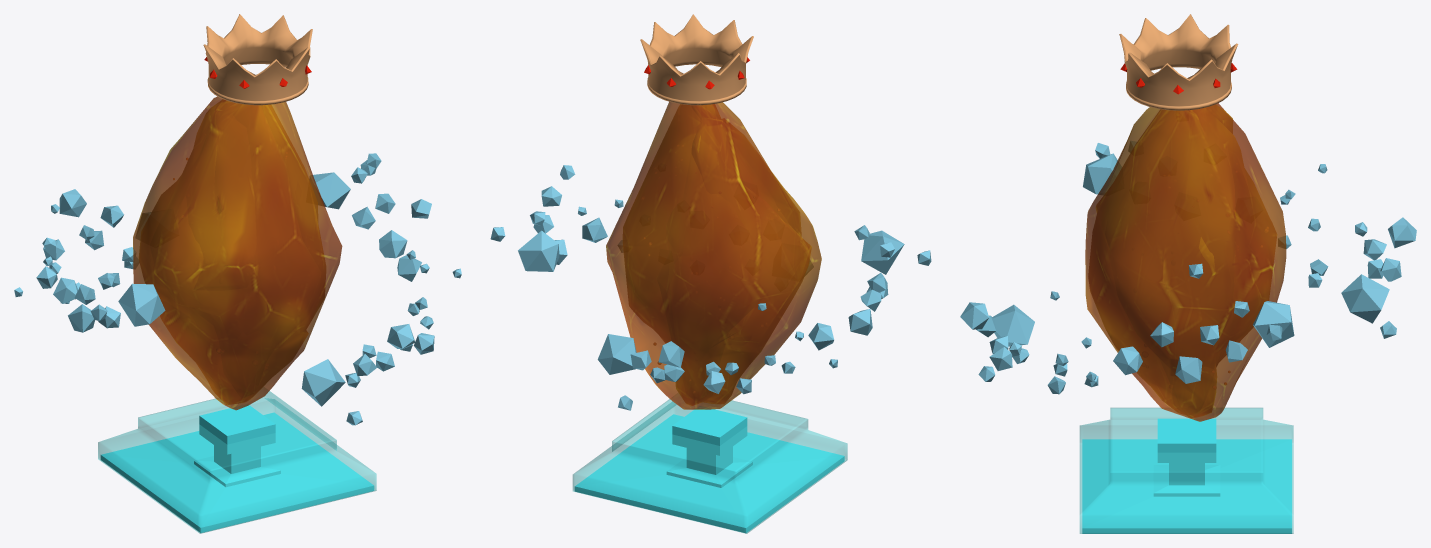
The model's file is JadeArdinals_34.glb.
3 views of the same model, side by side, from view 1: azimuth 30°, elevation 25°; view 2: azimuth 150°, elevation 25°; view 3: azimuth 270°, elevation 25° (orthographic). The views are drawn at different scales.
Visible parts, largest first — view 1: amber, GlassOcean, OrionBlue, CrownRedTop; view 2: amber, GlassOcean, OrionBlue, CrownRedTop; view 3: amber, GlassOcean, OrionBlue, CrownRedTop.
Part boxes in pixels (x1=…): amber: x1=133, y1=96, x2=342, y2=410; GlassOcean: x1=98, y1=391, x2=376, y2=533; OrionBlue: x1=14, y1=153, x2=461, y2=425; CrownRedTop: x1=203, y1=14, x2=312, y2=105; amber: x1=606, y1=101, x2=821, y2=409; GlassOcean: x1=572, y1=399, x2=847, y2=533; OrionBlue: x1=490, y1=165, x2=931, y2=410; CrownRedTop: x1=640, y1=14, x2=753, y2=105; amber: x1=1085, y1=103, x2=1286, y2=421; GlassOcean: x1=1079, y1=407, x2=1293, y2=533; OrionBlue: x1=960, y1=141, x2=1416, y2=394; CrownRedTop: x1=1119, y1=14, x2=1238, y2=110.
Bounding box in the file's own units: 4.19 × 4.74 × 4.27.
6 materials, 1 textured.
